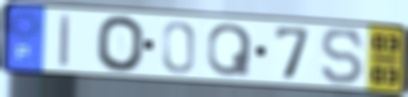0: (160, 19, 198, 75)
7: (271, 24, 315, 82)
I: (57, 12, 73, 71)
O: (94, 14, 148, 75)
Q: (205, 22, 255, 78)
S: (319, 26, 366, 87)
